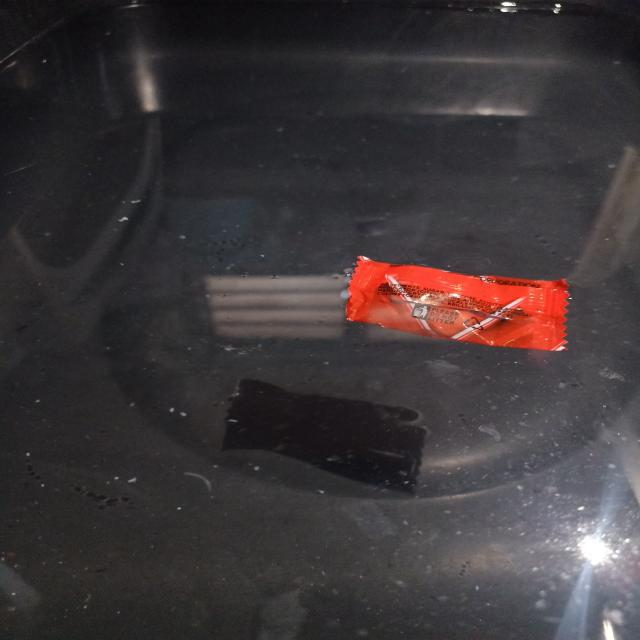Plastic Wrapper: (346, 256, 567, 350)
